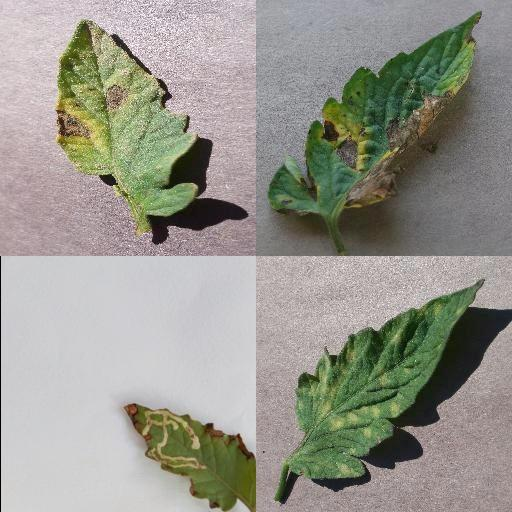Early Blight: (268, 11, 482, 217), (54, 18, 199, 218)
Leaf Miner: (121, 402, 256, 512)
Leaf Mold: (293, 278, 483, 480)
